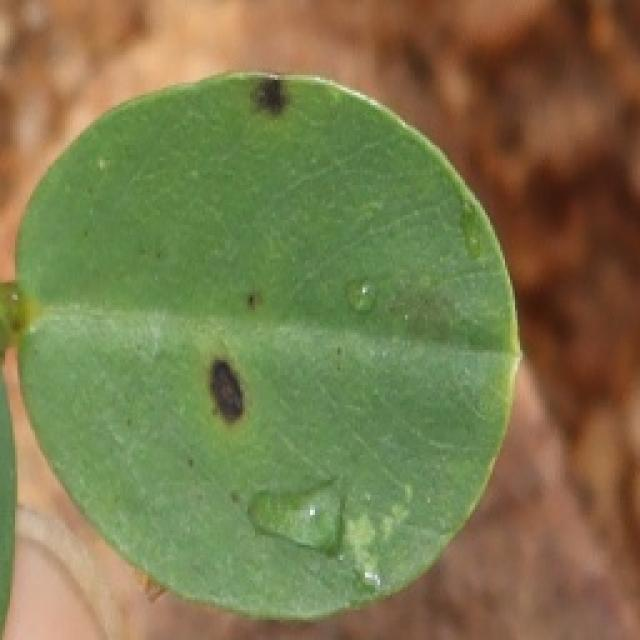Yellowish: (222, 50, 350, 184), (152, 335, 276, 460), (198, 252, 270, 336)
